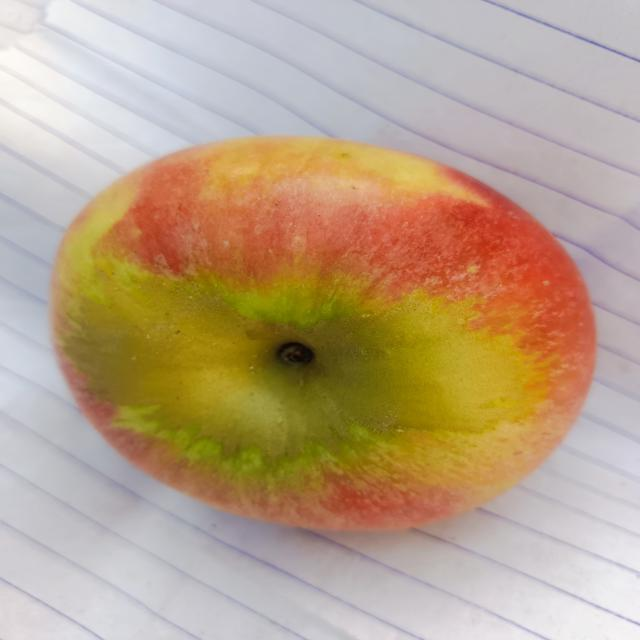Fresh Apple: (41, 138, 599, 538)
